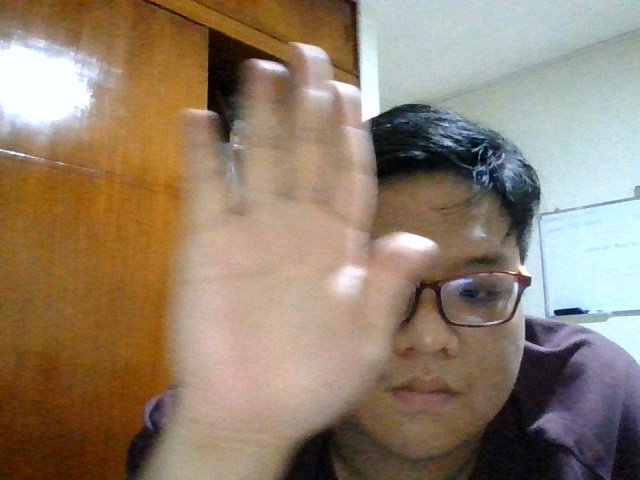hola: (160, 40, 435, 450)
